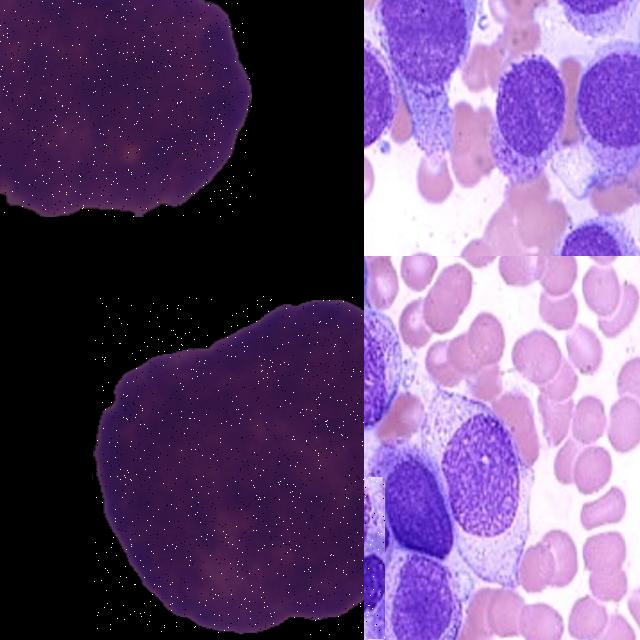ALL Positive Cell: (94, 296, 364, 635), (0, 0, 252, 216), (377, 0, 463, 159), (442, 411, 531, 545), (372, 462, 452, 571), (489, 60, 566, 165), (388, 545, 464, 640), (579, 49, 640, 162), (364, 319, 402, 420), (364, 40, 396, 153), (551, 217, 639, 256)
